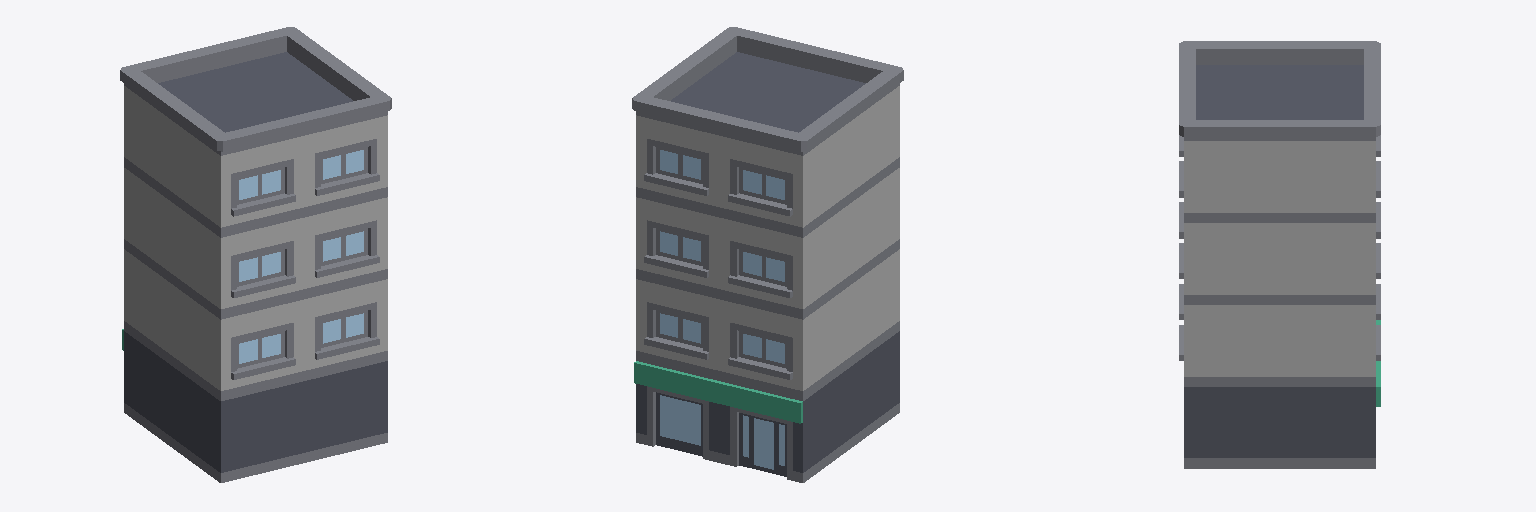
The model's file is city_mall_b.obj.
3 views of the same model, side by side, from view 1: azimuth 30°, elevation 25°; view 2: azimuth 150°, elevation 25°; view 3: azimuth 270°, elevation 25° (orthographic).
Visible parts, largest first — view 1: mergedBlocks; view 2: mergedBlocks; view 3: mergedBlocks.
Boxes of the visible parts, <box> form: mergedBlocks: <box>120,27,391,482</box>; mergedBlocks: <box>632,27,903,482</box>; mergedBlocks: <box>1179,41,1380,468</box>.
Size of the model in its own units: 0.5376 by 1.01 by 0.5376.